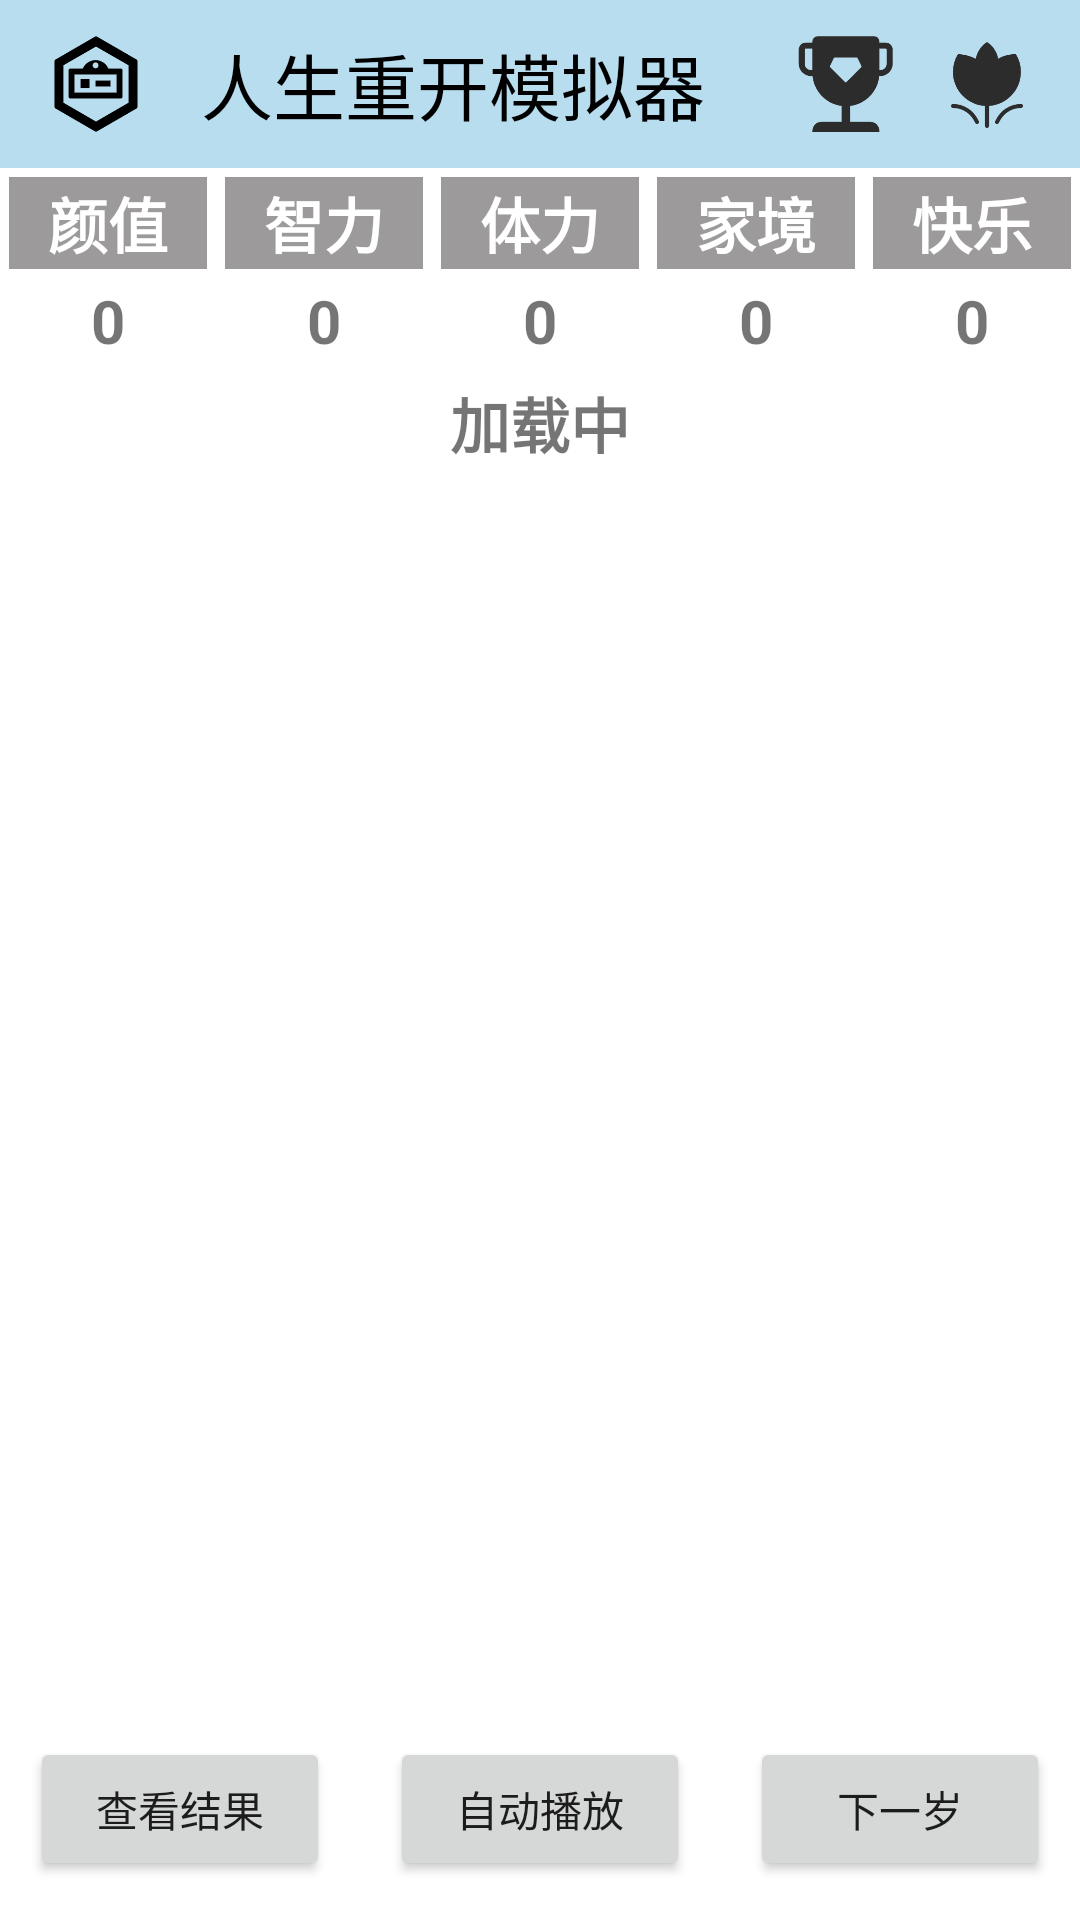

Point at icon controls on the screen. Image size 1080px×1920px, points as [x,y].
achieve: [845,84]
